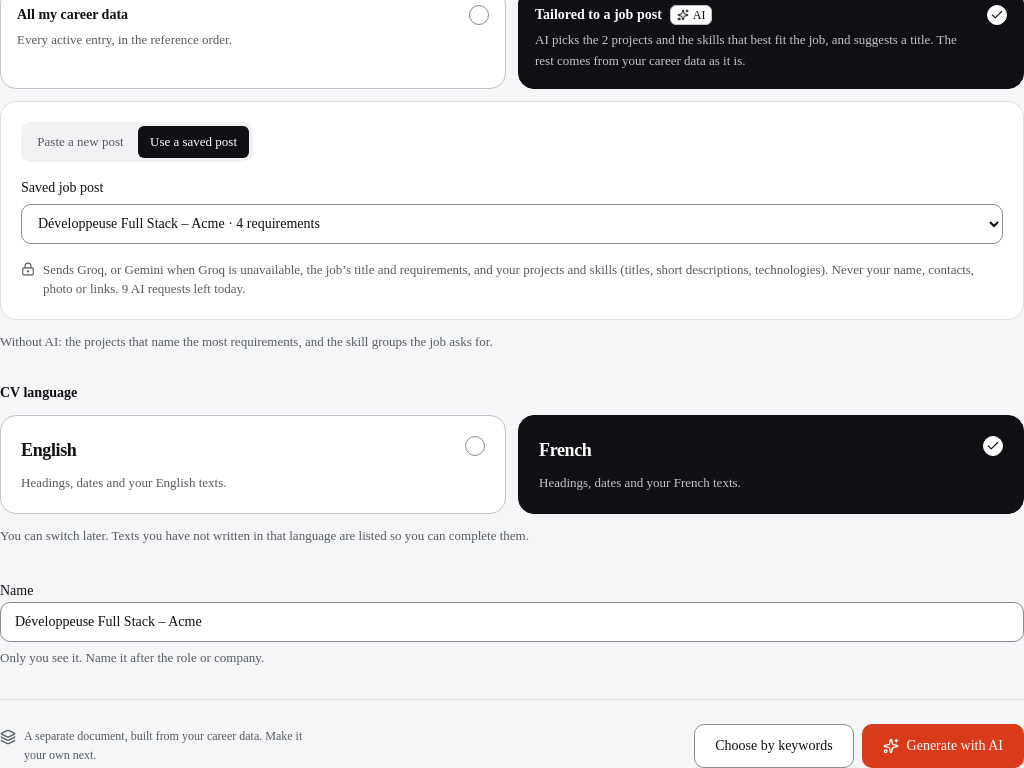
Test: new CV form, tailored to a job post › explains why tailoring stopped: {"ok":false,"error":"ai_disabled"}
(page scrolled)
Click the button "Generate with AI" at (943, 746), box [862, 724, 1023, 767]
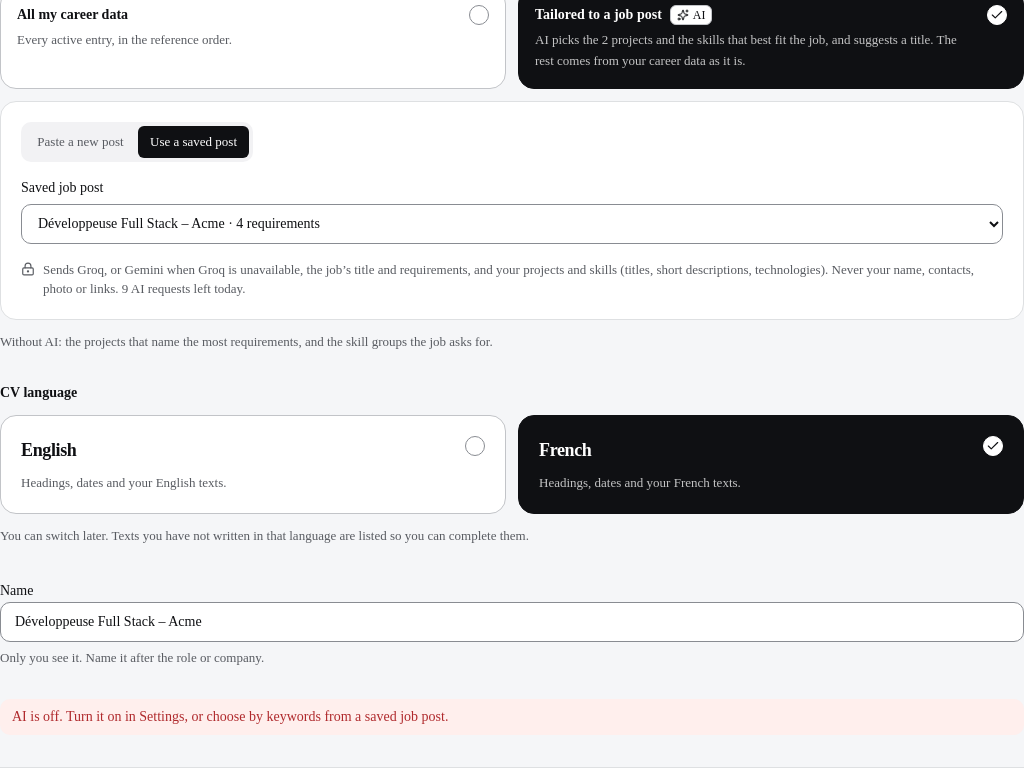
Expected: the message reads "AI is off. Turn it on in Settings, or choose by keywords from a saved job post.", [12, 709, 448, 724]
